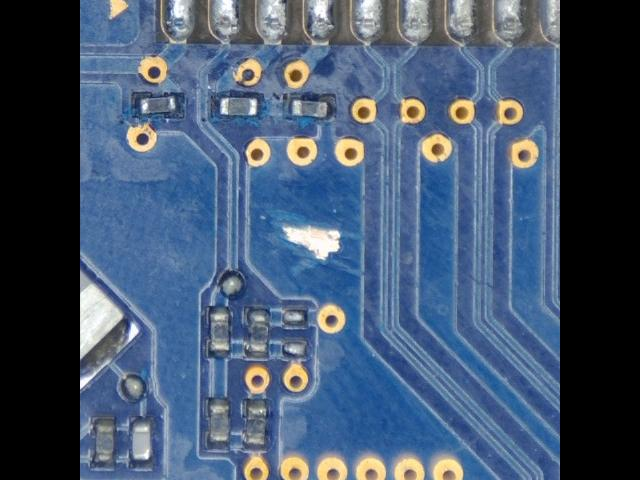Dry_joint: (399, 1, 435, 44), (446, 1, 481, 44), (304, 1, 339, 43), (494, 1, 528, 44), (162, 1, 198, 41), (352, 1, 387, 42), (257, 1, 289, 44), (210, 1, 241, 42), (542, 1, 561, 44)
